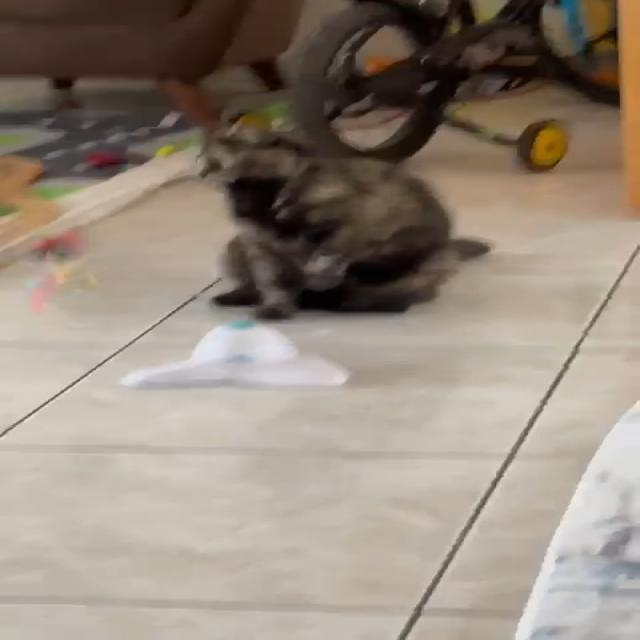authorized: (196, 111, 492, 320)
